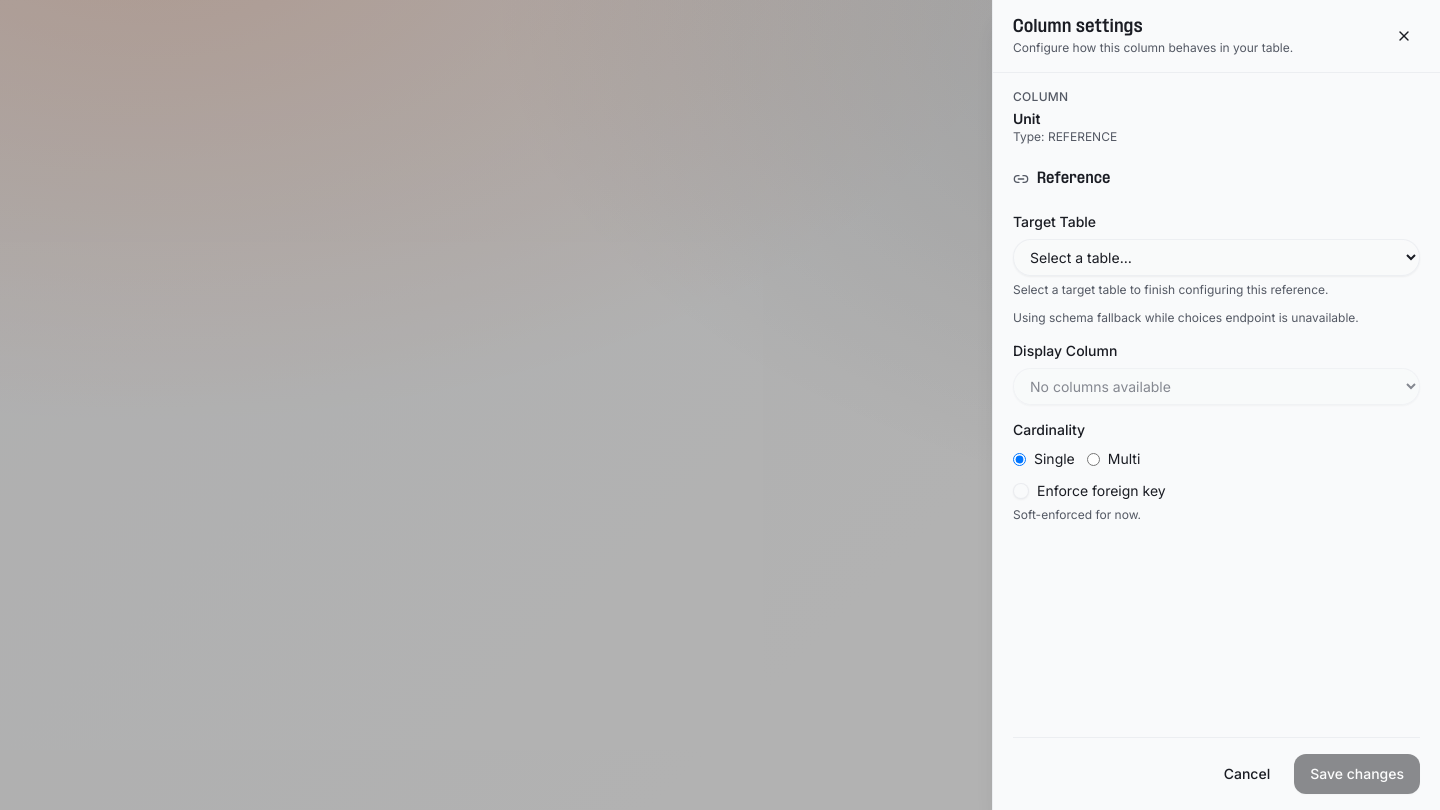
ColumnSettingsDrawer › falls back to the schema registry when choices endpoints return 404
The image size is (1440, 810).
Check: the text "Using schema fallback while choices endpoint is unavailable." is shown, box 1013,310 -> 1359,325
Select "Units" in the dropdown labelled "Target Table": (1216,258) 1013,239 -> 1420,276
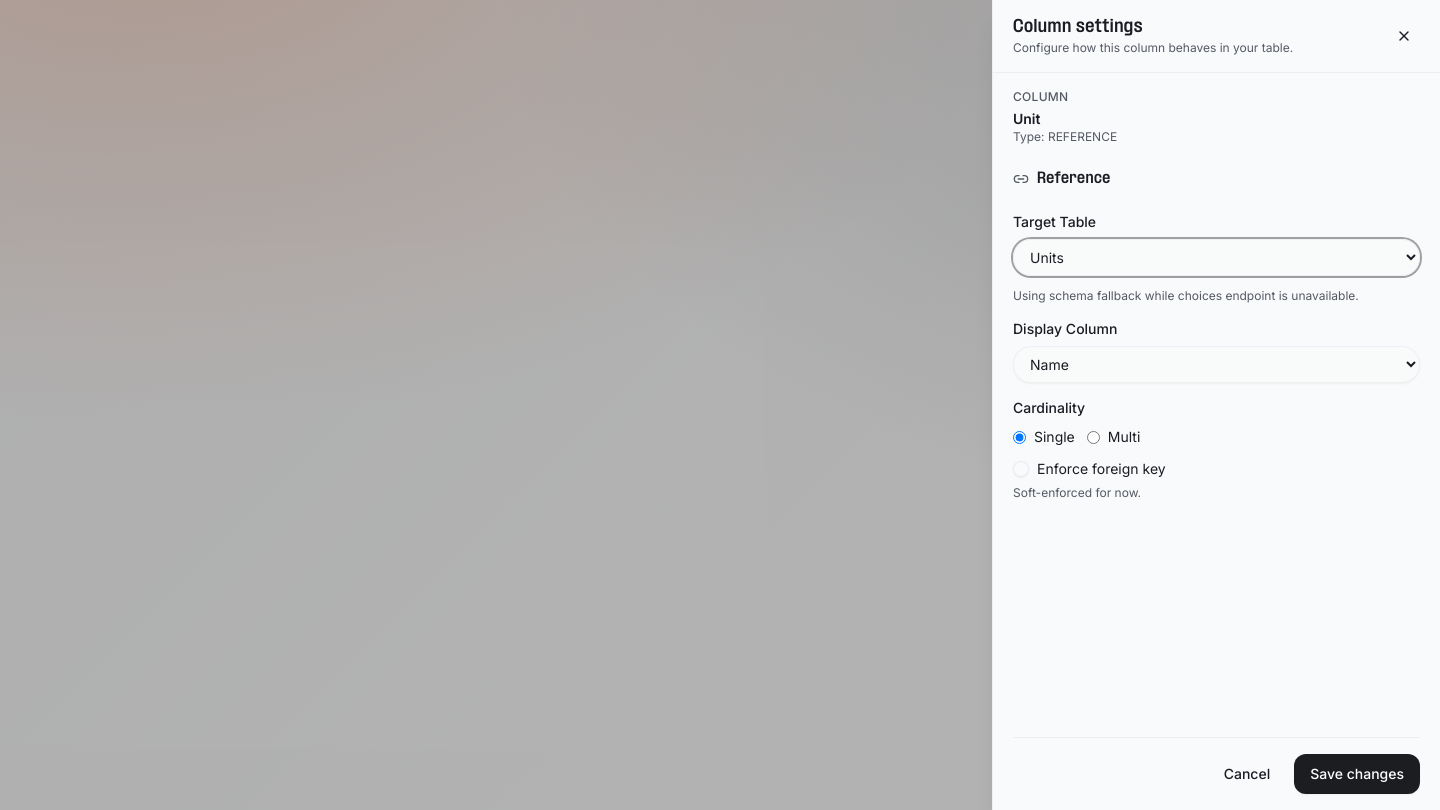
Check: the dropdown labelled "Display Column" is enabled, box 1013,346 -> 1420,383
Check: the dropdown labelled "Display Column" shows "Name", box 1013,346 -> 1420,383
